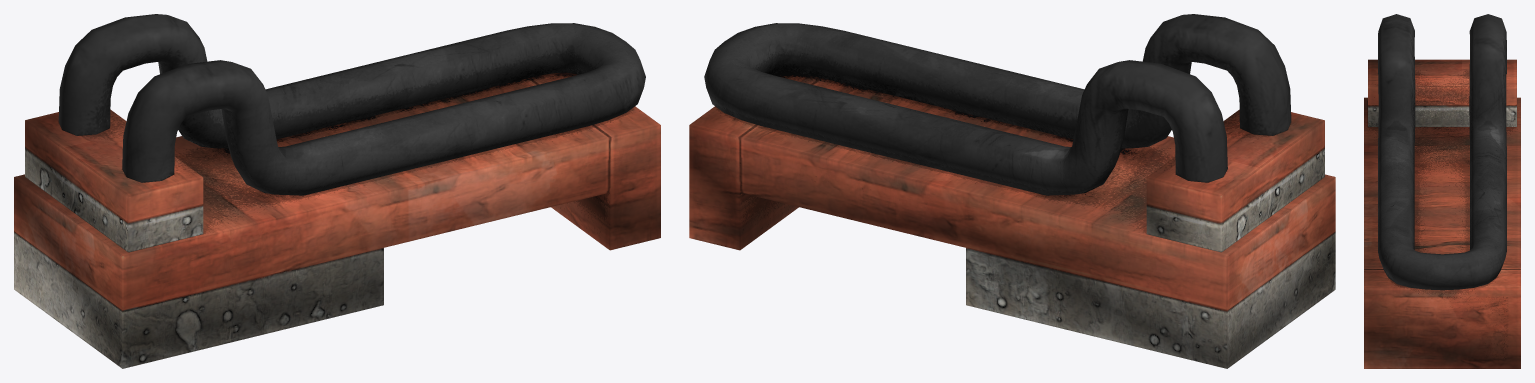
File: tombolaso-ball-dispenser.glb
3 renders of one model, left to right at view 1: azimuth 30°, elevation 25°; view 2: azimuth 150°, elevation 25°; view 3: azimuth 270°, elevation 25°, orthographic. The views are drawn at different scales.
Parts seen in each view (by area): view 1: TARGET_LOW.000; view 2: TARGET_LOW.000; view 3: TARGET_LOW.000.
Boxes of the visible parts, left/top/right/bottom form: TARGET_LOW.000: left=14, top=14, right=660, bottom=368; TARGET_LOW.000: left=689, top=14, right=1335, bottom=368; TARGET_LOW.000: left=1364, top=14, right=1520, bottom=368.
Bounding box in the file's own units: 400 × 179 × 133.
Materials: 1 (1 with a texture image).
